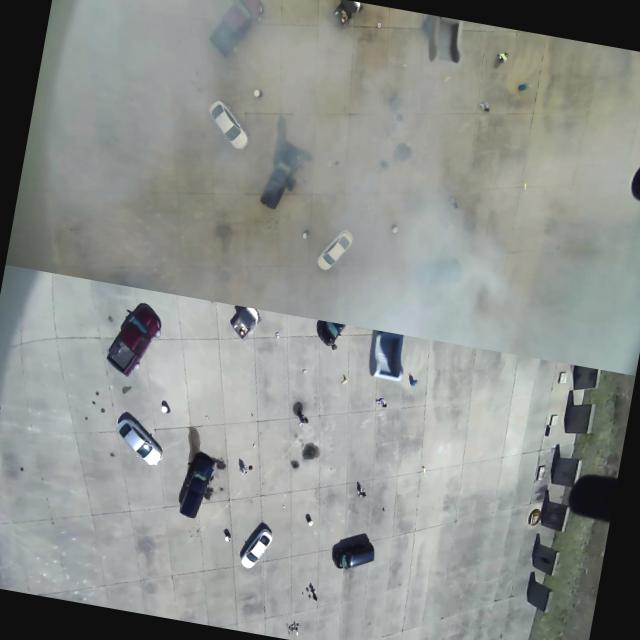car: (199, 0, 273, 63), (196, 94, 265, 158), (257, 143, 311, 222), (172, 451, 218, 529), (109, 408, 167, 465), (330, 524, 378, 574), (317, 224, 356, 282), (239, 519, 273, 571)
truck: (100, 296, 166, 380)
